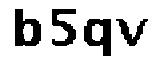5: (48, 5, 81, 52)
b: (11, 6, 44, 52)
q: (82, 16, 114, 60)
v: (115, 16, 152, 50)
